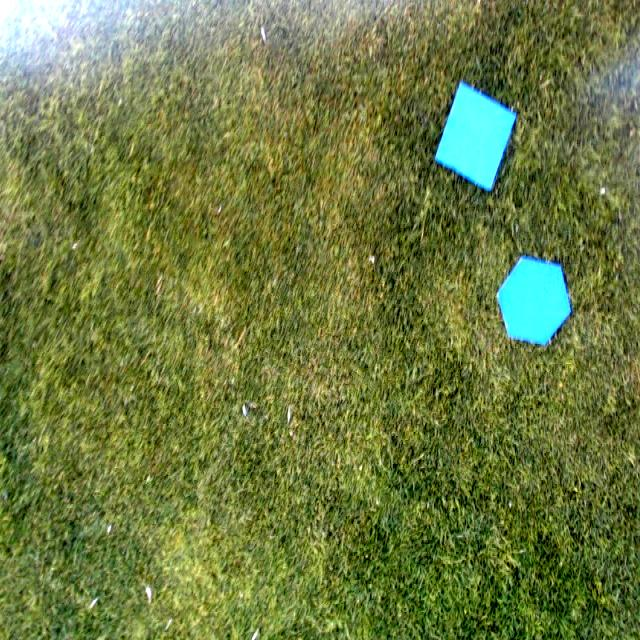blue_hexagon: (495, 257, 572, 345)
blue_square: (433, 79, 518, 193)
